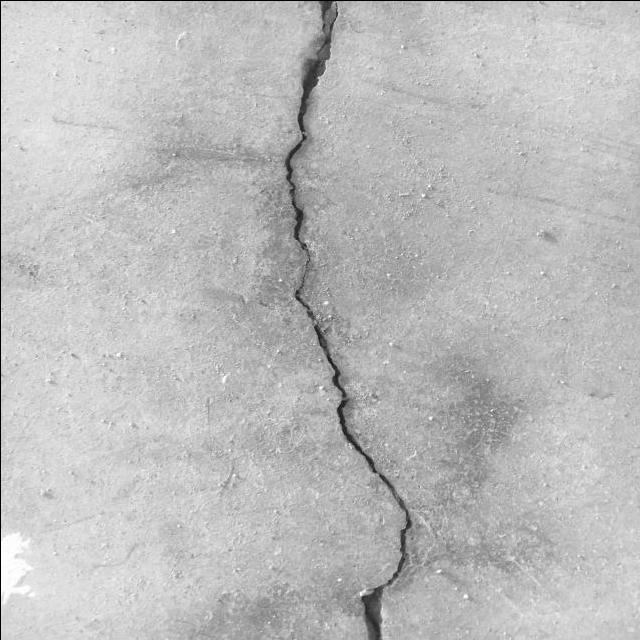SurfaceCrack: (249, 0, 443, 639)
